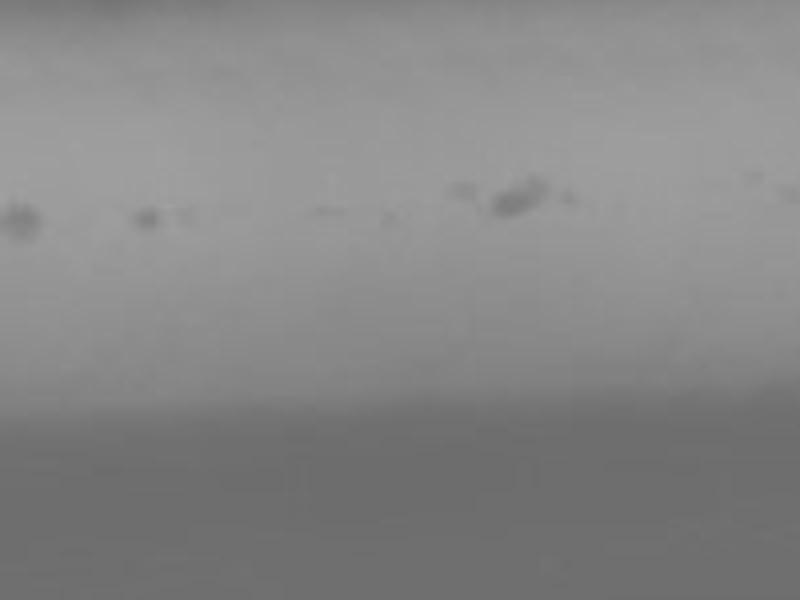defect: (489, 171, 551, 218), (3, 202, 46, 238), (129, 197, 163, 230), (165, 202, 200, 233), (444, 176, 480, 200), (771, 178, 800, 206), (739, 158, 765, 188), (375, 203, 402, 230), (312, 200, 349, 219), (557, 185, 582, 209)
